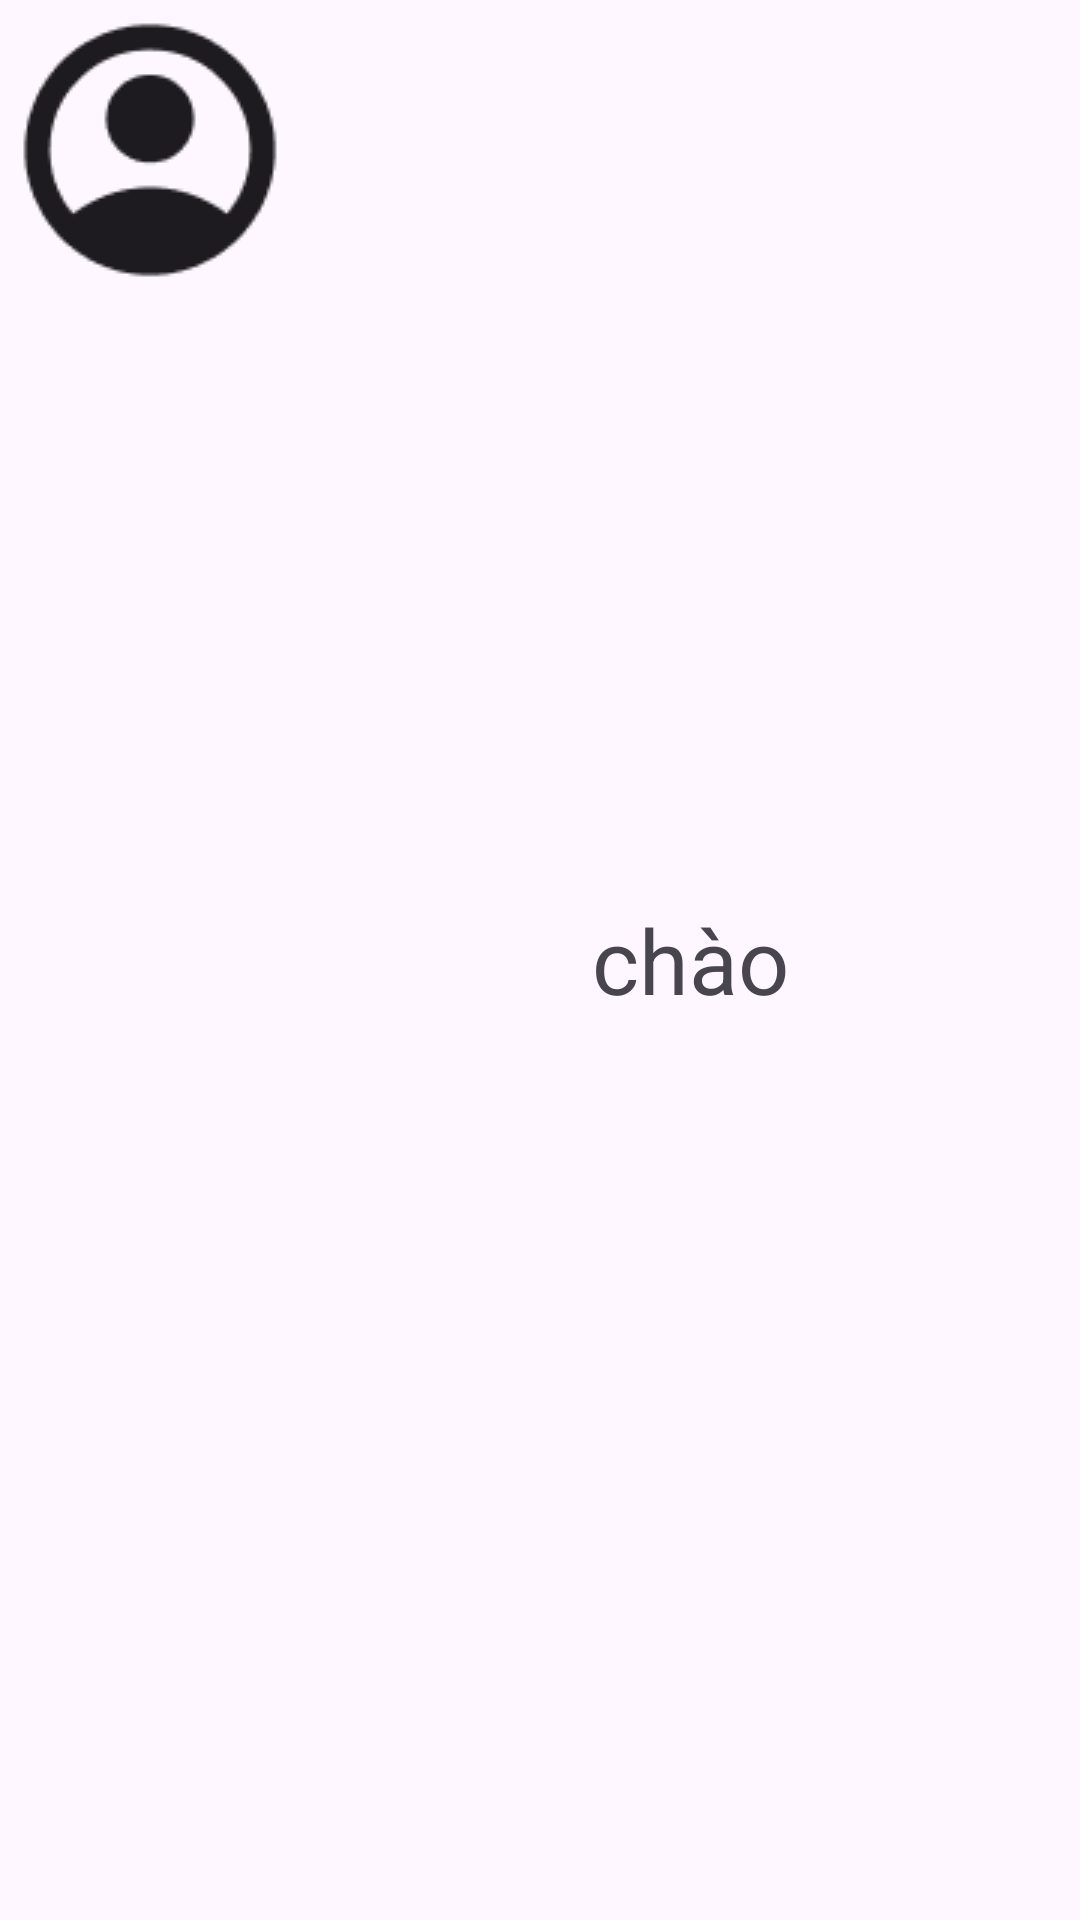

Named icons in this screenshot (1080px×1920px) and their bounding boxes, detection(x1, y1, x2, y2):
account: detection(23, 23, 277, 277)
